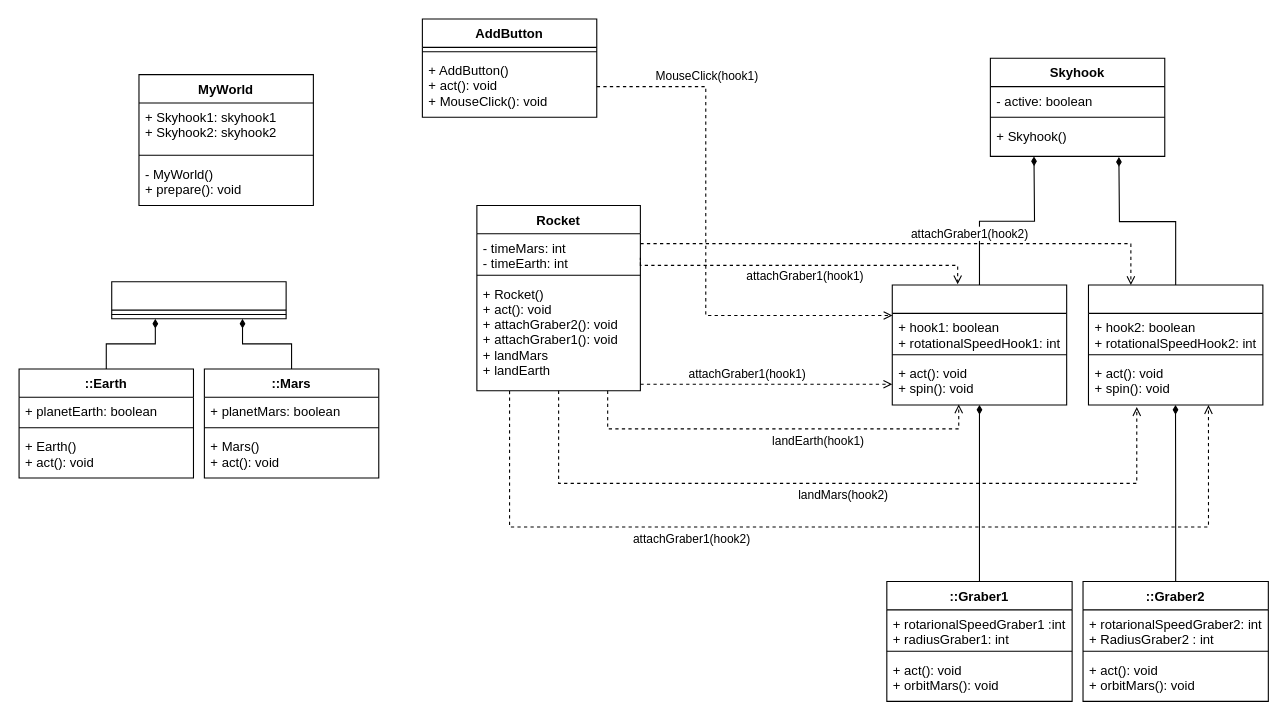
This 1288x724 diagram has some shape labels left out. Here are the shapes that lost their labels. From the top down, the box of each, then its label:
(111, 281, 286, 319): Planets
(891, 284, 1067, 405): ::Skyhook1
(1087, 284, 1263, 405): ::Skyhook2
